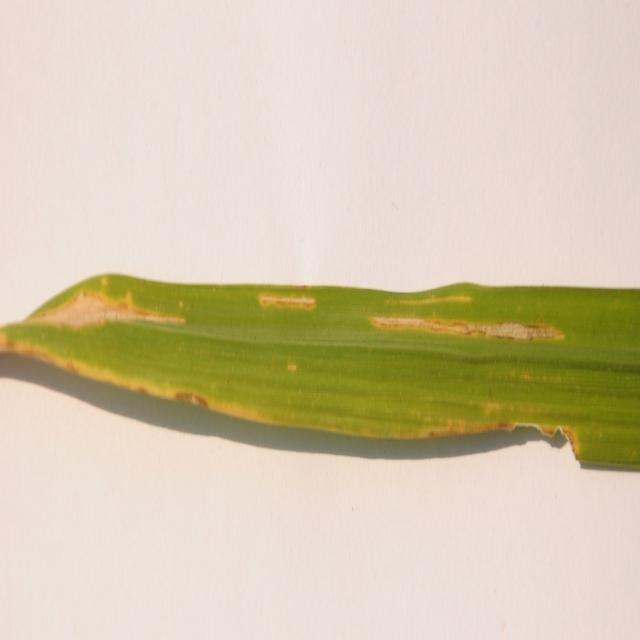leaf blight: (0, 326, 278, 439), (363, 296, 571, 352), (381, 400, 586, 450), (29, 278, 189, 333), (248, 278, 324, 324), (288, 348, 303, 392)
